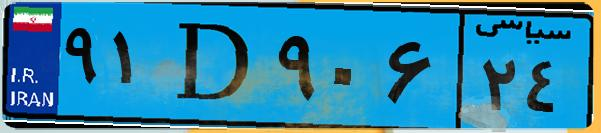0: (330, 28, 385, 110)
1: (110, 28, 158, 98)
2: (475, 38, 525, 113)
4: (525, 38, 570, 115)
6: (385, 28, 445, 110)
9: (270, 28, 330, 110), (57, 26, 110, 100)
D: (158, 12, 270, 120)
